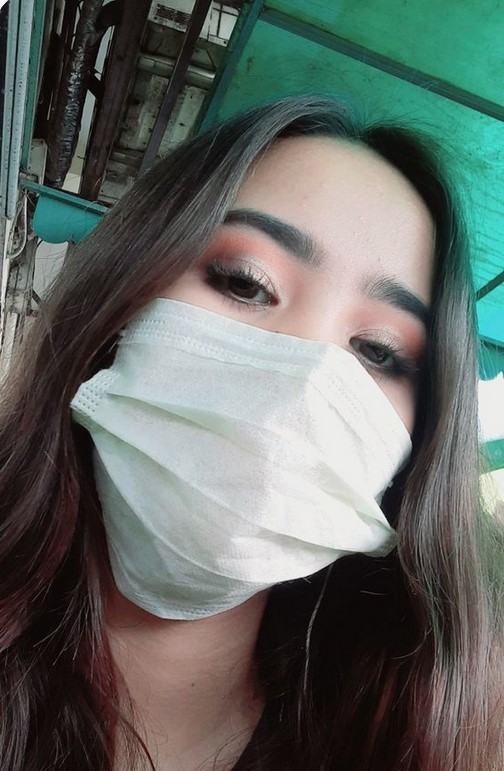face_with_mask: (72, 99, 449, 619)
